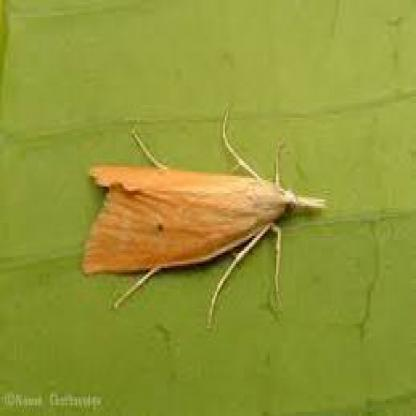stem-borer: (82, 102, 330, 329)
